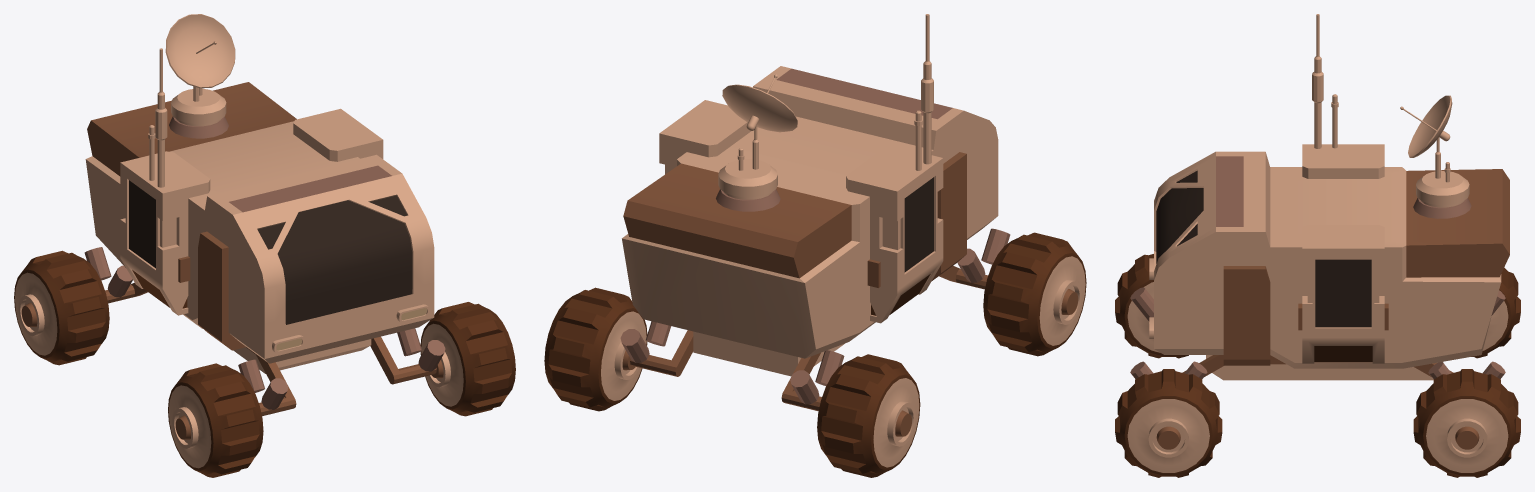
File: quaternius-ultimate-space-pack-rover-1-transformed.glb
3 views of the same model, side by side, from view 1: azimuth 30°, elevation 25°; view 2: azimuth 150°, elevation 25°; view 3: azimuth 270°, elevation 25° (orthographic). The views are drawn at different scales.
Visible parts, largest first — view 1: Wheel_1; view 2: Wheel_1; view 3: Wheel_1.
Boxes of the visible parts, x1=… form: Wheel_1: x1=14, y1=14, x2=515, y2=477; Wheel_1: x1=544, y1=14, x2=1086, y2=477; Wheel_1: x1=1115, y1=14, x2=1520, y2=477.
Size of the model in its own units: 4.58 by 4.88 by 5.16.
Materials: 1 (1 with a texture image).
